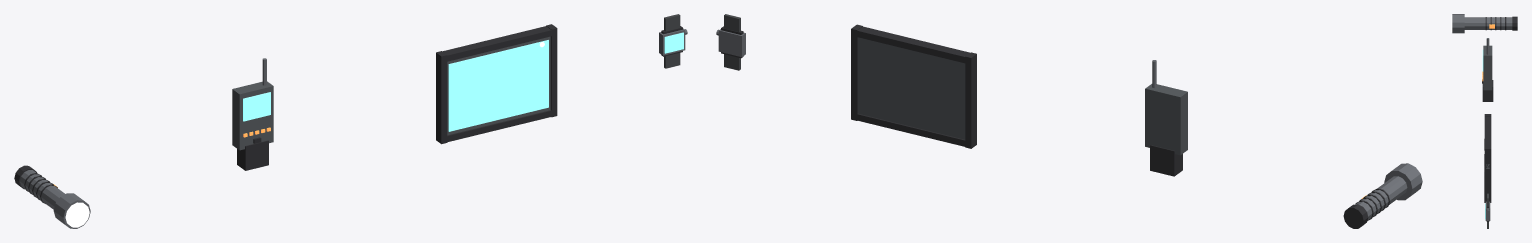
File: SM_Investigation_Gear.fbx
3 views of the same model, side by side, from view 1: azimuth 30°, elevation 25°; view 2: azimuth 150°, elevation 25°; view 3: azimuth 270°, elevation 25° (orthographic). The views are drawn at different scales.
Visible parts, largest first — view 1: SM_Gear_TAB_Screen, SM_Gear_EMF_Body, SM_Gear_TAB_BumperZ_1, SM_Gear_TAB_BumperX_-1, SM_Gear_TAB_Body, SM_Gear_TAB_BumperZ_-1, SM_Gear_FL_Body, SM_Gear_EMF_Grip, SM_Gear_TAB_BumperX_1, SM_Gear_EMF_Screen, SM_Gear_FL_Head, SM_Gear_FL_Lens (+1 smaller); view 2: SM_Gear_TAB_Body, SM_Gear_EMF_Body, SM_Gear_TAB_BumperZ_1, SM_Gear_TAB_BumperX_-1, SM_Gear_FL_Body, SM_Gear_TAB_BumperZ_-1, SM_Gear_EMF_Grip, SM_Gear_FL_Head, SM_Gear_TAB_BumperX_1, SM_Gear_W_Case, SM_Gear_FL_Tail; view 3: SM_Gear_FL_Body, SM_Gear_EMF_Body, SM_Gear_TAB_BumperX_1, SM_Gear_FL_Head, SM_Gear_TAB_BumperZ_1, SM_Gear_EMF_Grip, SM_Gear_W_Case, SM_Gear_FL_Tail, SM_Gear_EMF_Antenna.
Part boxes in pixels (left/top/right/bottom): SM_Gear_TAB_Screen: left=448, top=40, right=548, bottom=131; SM_Gear_EMF_Body: left=232, top=81, right=273, bottom=150; SM_Gear_TAB_BumperZ_1: left=442, top=26, right=556, bottom=62; SM_Gear_TAB_BumperX_-1: left=436, top=51, right=447, bottom=144; SM_Gear_TAB_Body: left=447, top=36, right=550, bottom=135; SM_Gear_TAB_BumperZ_-1: left=442, top=110, right=556, bottom=143; SM_Gear_FL_Body: left=20, top=170, right=64, bottom=209; SM_Gear_EMF_Grip: left=237, top=140, right=268, bottom=170; SM_Gear_TAB_BumperX_1: left=546, top=24, right=557, bottom=117; SM_Gear_EMF_Screen: left=243, top=92, right=270, bottom=121; SM_Gear_FL_Head: left=53, top=193, right=90, bottom=228; SM_Gear_FL_Lens: left=65, top=202, right=89, bottom=227; SM_Gear_TAB_Body: left=858, top=37, right=965, bottom=139; SM_Gear_EMF_Body: left=1145, top=84, right=1187, bottom=155; SM_Gear_TAB_BumperZ_1: left=851, top=26, right=970, bottom=64; SM_Gear_TAB_BumperX_-1: left=965, top=52, right=976, bottom=148; SM_Gear_FL_Body: left=1355, top=176, right=1407, bottom=220; SM_Gear_TAB_BumperZ_-1: left=857, top=113, right=970, bottom=147; SM_Gear_EMF_Grip: left=1150, top=145, right=1182, bottom=176; SM_Gear_FL_Head: left=1384, top=163, right=1422, bottom=200; SM_Gear_TAB_BumperX_1: left=851, top=24, right=862, bottom=120; SM_Gear_W_Case: left=718, top=29, right=745, bottom=56; SM_Gear_FL_Tail: left=1343, top=204, right=1368, bottom=228; SM_Gear_FL_Body: left=1464, top=17, right=1512, bottom=29; SM_Gear_EMF_Body: left=1483, top=45, right=1492, bottom=90; SM_Gear_TAB_BumperX_1: left=1484, top=147, right=1491, bottom=202; SM_Gear_FL_Head: left=1452, top=14, right=1464, bottom=33; SM_Gear_TAB_BumperZ_1: left=1484, top=116, right=1491, bottom=147; SM_Gear_EMF_Grip: left=1482, top=80, right=1493, bottom=101; SM_Gear_W_Case: left=1485, top=201, right=1490, bottom=220; SM_Gear_FL_Tail: left=1512, top=16, right=1517, bottom=30; SM_Gear_EMF_Antenna: left=1486, top=38, right=1489, bottom=54.
Size of the model in its own units: 1.34 by 0.246 by 0.192.
